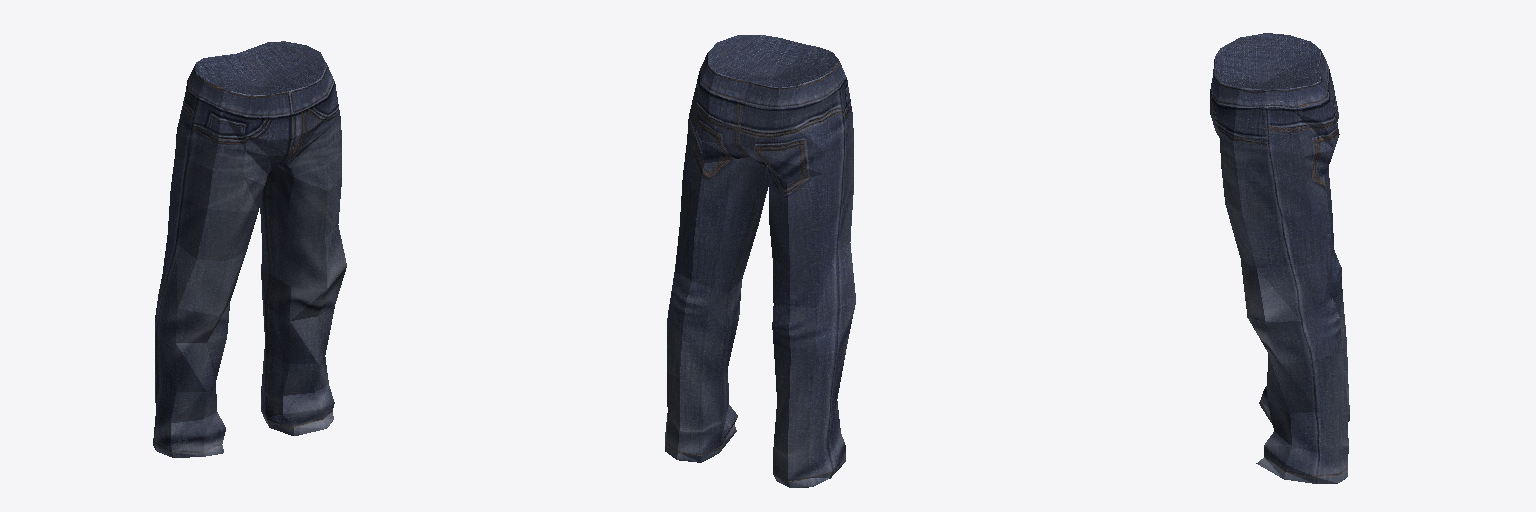
3 renders of one model, left to right at view 1: azimuth 30°, elevation 25°; view 2: azimuth 150°, elevation 25°; view 3: azimuth 270°, elevation 25°, orthographic.
Bounding box in the file's own units: 90.52 × 200 × 65.25.
1 materials, 1 textured.